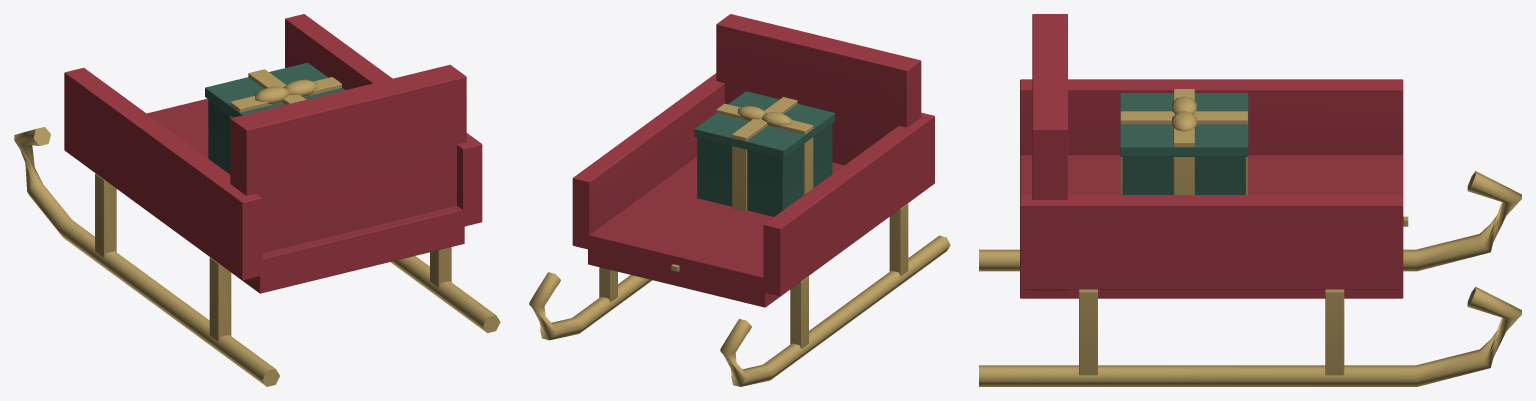
File: sleigh.glb
3 views of the same model, side by side, from view 1: azimuth 30°, elevation 25°; view 2: azimuth 150°, elevation 25°; view 3: azimuth 270°, elevation 25° (orthographic). The views are drawn at different scales.
Size of the model in its own units: 1.09 by 1.03 by 1.98.
